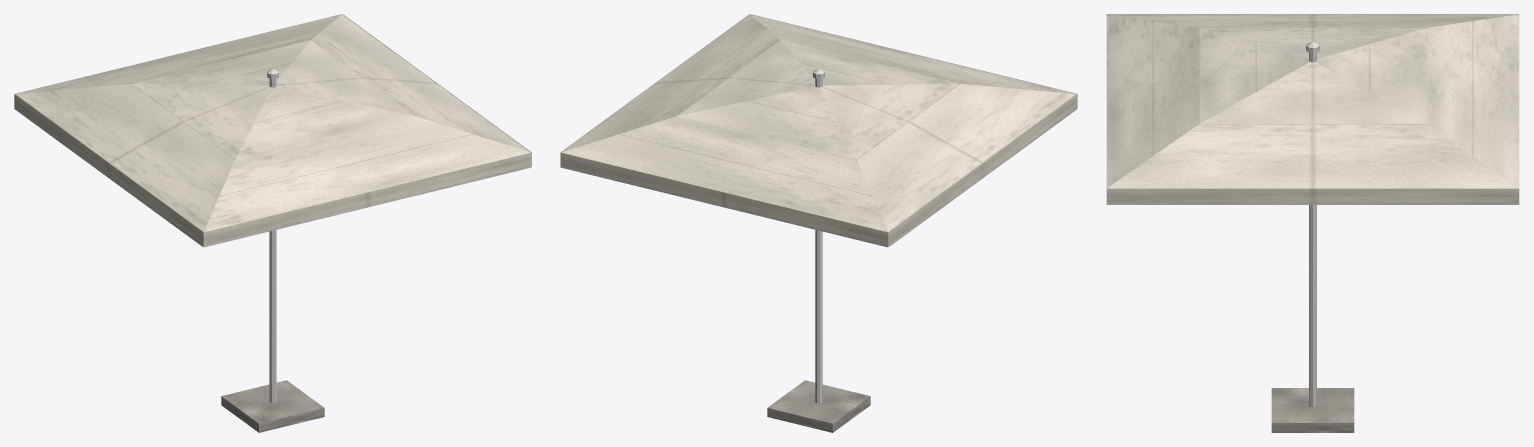
Rendered from SM_Molo_Ombrellone3x3.fbx.
3 views of the same model, side by side, from view 1: azimuth 30°, elevation 25°; view 2: azimuth 150°, elevation 25°; view 3: azimuth 270°, elevation 25° (orthographic). The views are drawn at different scales.
Parts seen in each view (by area): view 1: SM_Molo_Ombrellone3x3; view 2: SM_Molo_Ombrellone3x3; view 3: SM_Molo_Ombrellone3x3.
Boxes of the visible parts, bbox=[...] form: SM_Molo_Ombrellone3x3: bbox=[14, 14, 531, 432]; SM_Molo_Ombrellone3x3: bbox=[560, 14, 1077, 432]; SM_Molo_Ombrellone3x3: bbox=[1106, 14, 1519, 432].
Size of what is drawn, in the model's own units: 301 by 301 by 300.
1 material, 1 textured.
